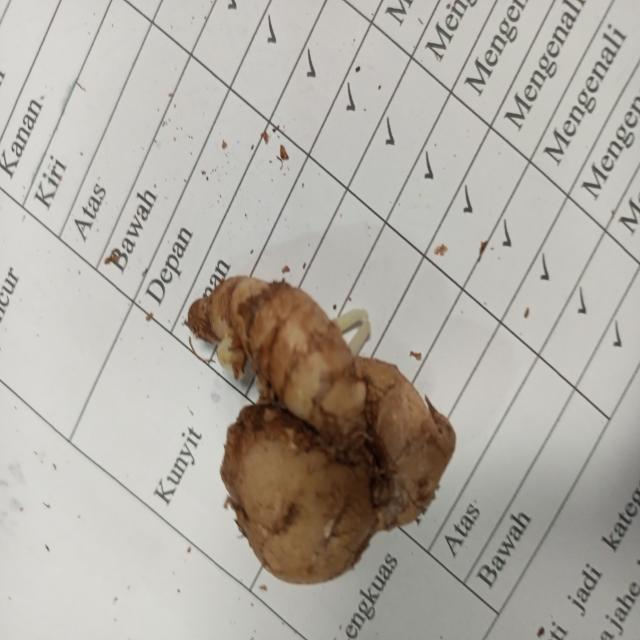ginger: (192, 274, 446, 570)
